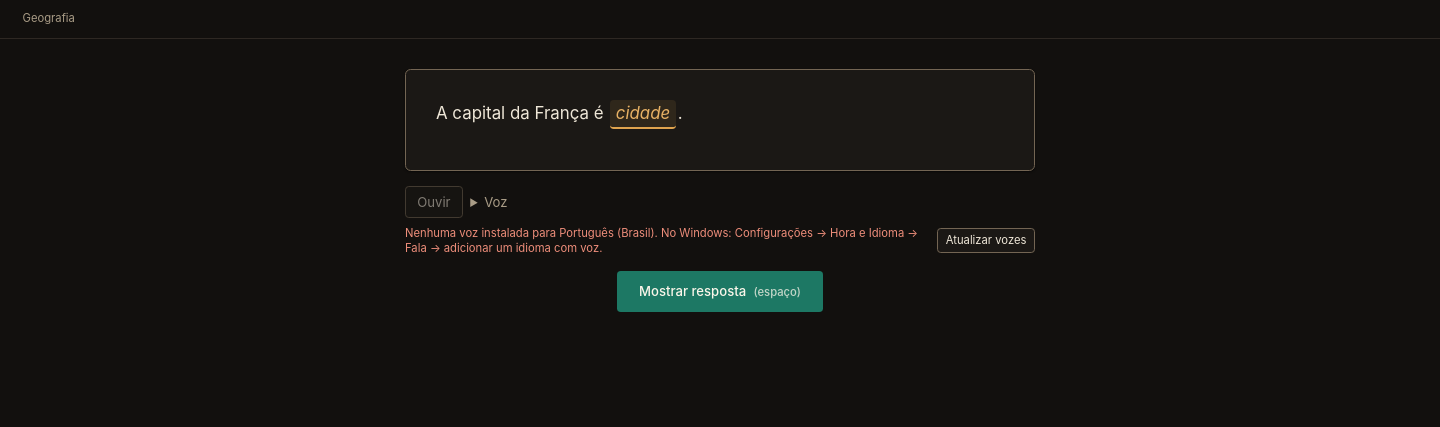
Test: EstudoSessao com cartão cloze › revelar preenche a lacuna no lugar, mostra o Extra e os quatro botões — e a marcação crua continua fora
Expected: the text "A capital da França é" is shown, [436,102,608,122]
Click the button "Mostrar resposta (espaço)" at (720, 291), box [617,271,823,312]
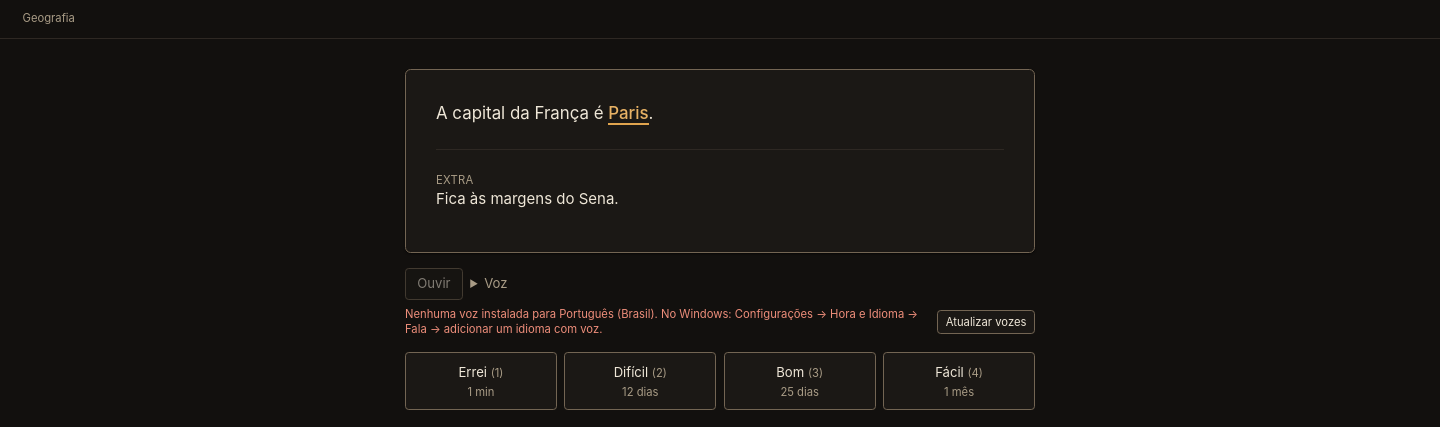
Now the text "Paris" is shown, box [608,102,649,124]
Now the text "cidade" is gone
Now the text "Fica às margens do Sena." is shown, box [436,189,619,208]
